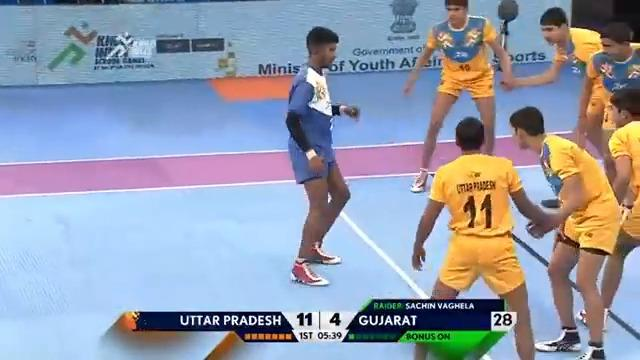Player: (410, 115, 552, 359), (508, 105, 622, 358), (402, 0, 514, 193), (575, 86, 639, 333), (499, 6, 606, 149), (575, 20, 639, 179)
Raider: (284, 25, 360, 286)
referee: (489, 0, 518, 72)
